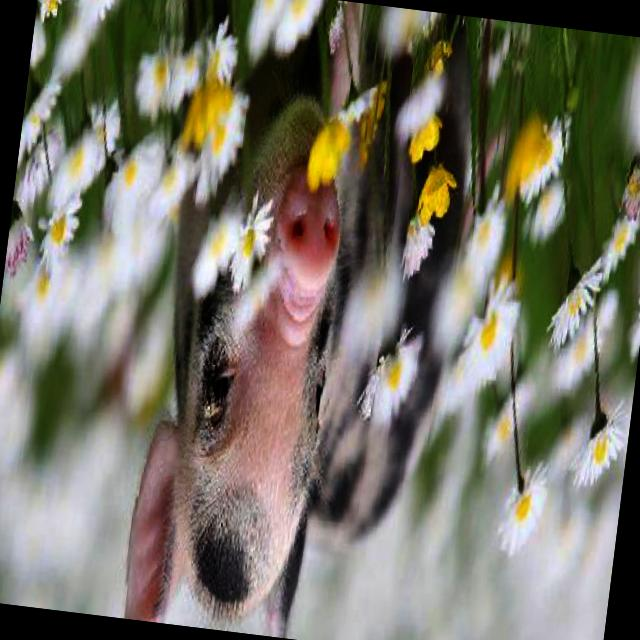pig: (127, 32, 470, 638)
